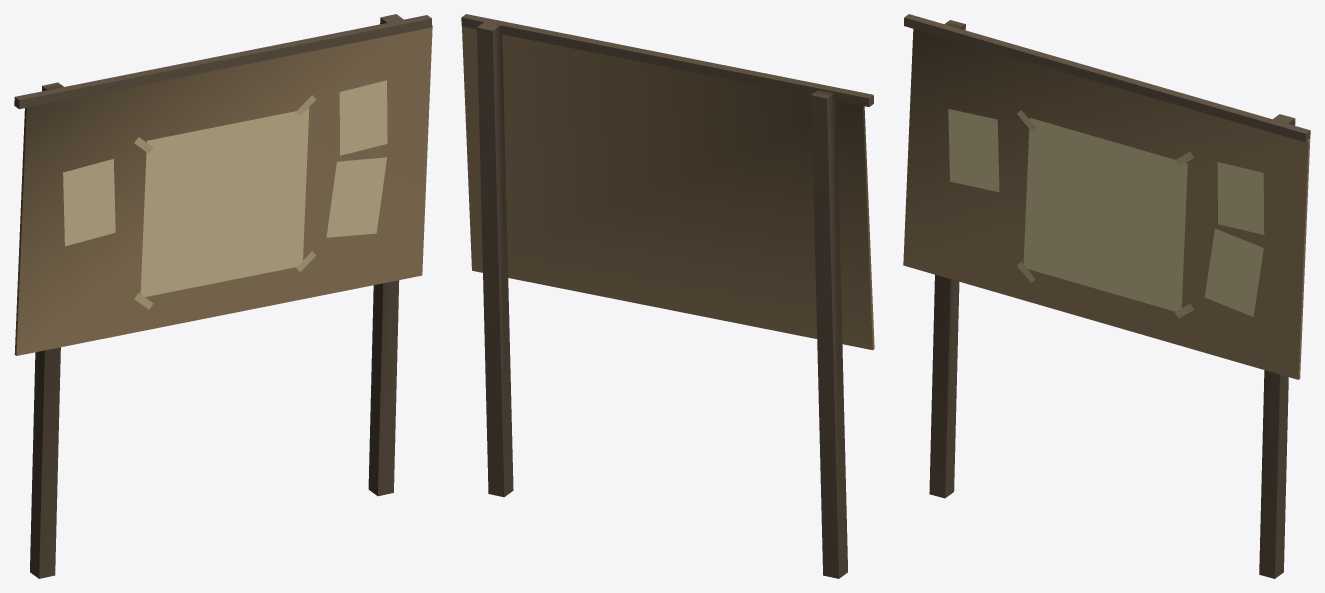
The model's file is pike_manifesto_board.glb.
The picture shows the model from 3 angles, left to right: view 1: azimuth 30°, elevation 25°; view 2: azimuth 150°, elevation 25°; view 3: azimuth 330°, elevation 25°; orthographic projection. The views are drawn at different scales.
Visible parts, largest first — view 1: manifesto_board_LOD0, manifesto_paper_LOD0, manifesto_posts_LOD0; view 2: manifesto_board_LOD0, manifesto_posts_LOD0; view 3: manifesto_board_LOD0, manifesto_paper_LOD0, manifesto_posts_LOD0.
Boxes of the visible parts, box(x1,y1,x2,y2) form: manifesto_board_LOD0: box(14, 15, 432, 355); manifesto_paper_LOD0: box(63, 80, 387, 309); manifesto_posts_LOD0: box(30, 14, 405, 578); manifesto_board_LOD0: box(461, 14, 874, 350); manifesto_posts_LOD0: box(477, 21, 847, 578); manifesto_board_LOD0: box(903, 14, 1310, 379); manifesto_paper_LOD0: box(948, 109, 1264, 318); manifesto_posts_LOD0: box(929, 20, 1295, 578).
Bounding box in the file's own units: 2.46 × 2.75 × 0.1275.
